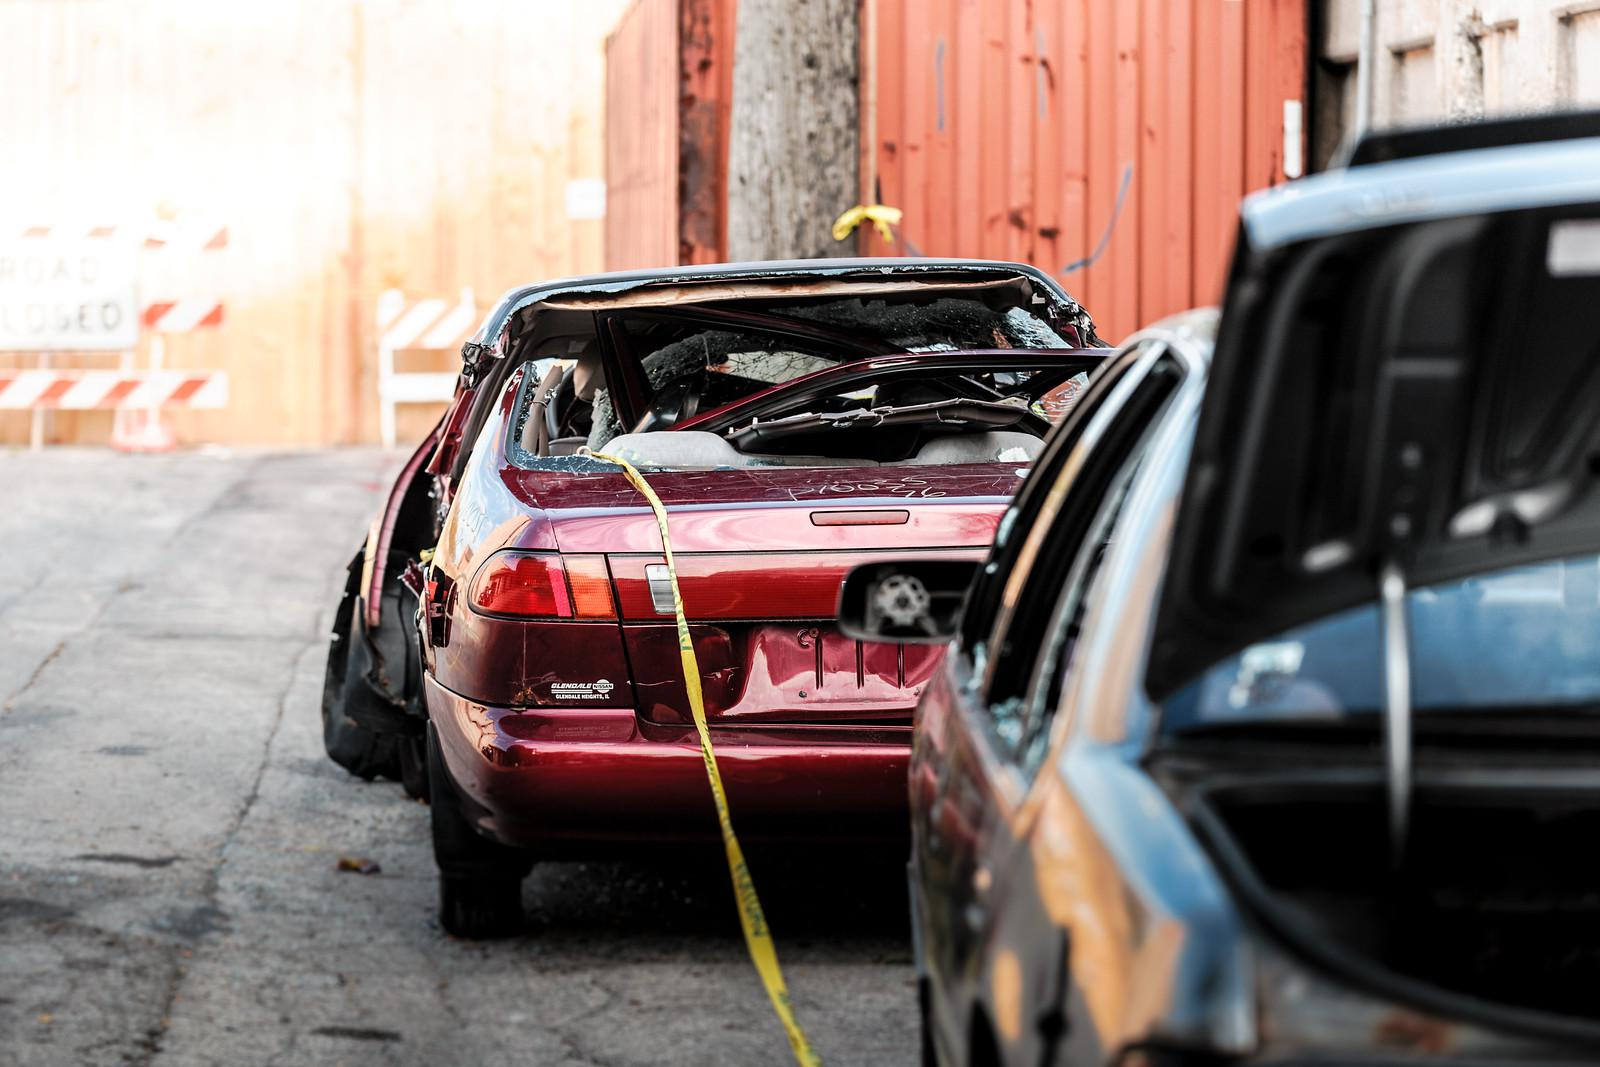Rear-windscreen-Damage: (511, 285, 1027, 487)
boot-dent: (551, 555, 982, 750)
